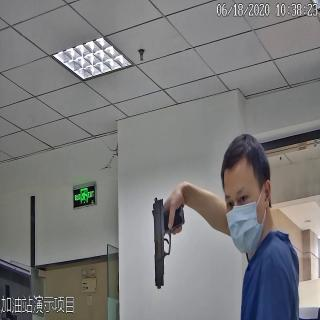gun: (148, 193, 187, 288)
